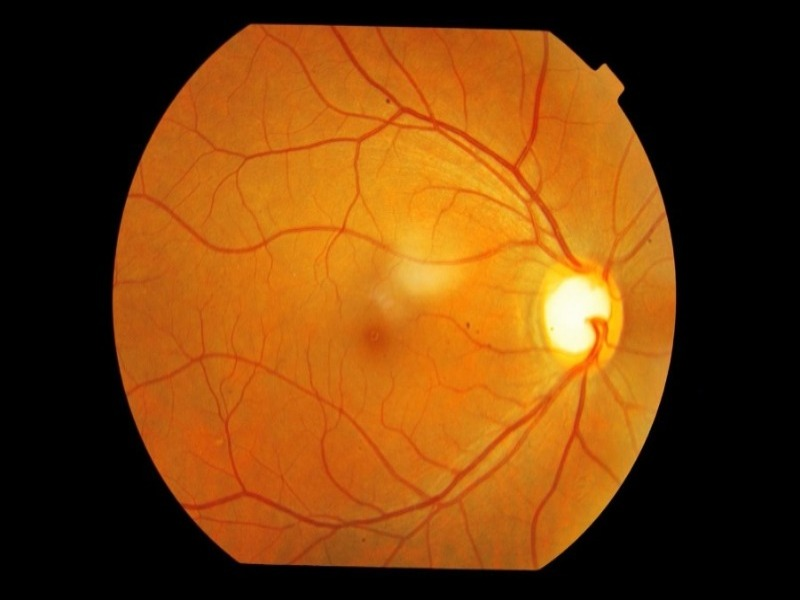Optic Cup: (546, 276, 609, 353)
Optic Disc: (524, 260, 623, 374)
